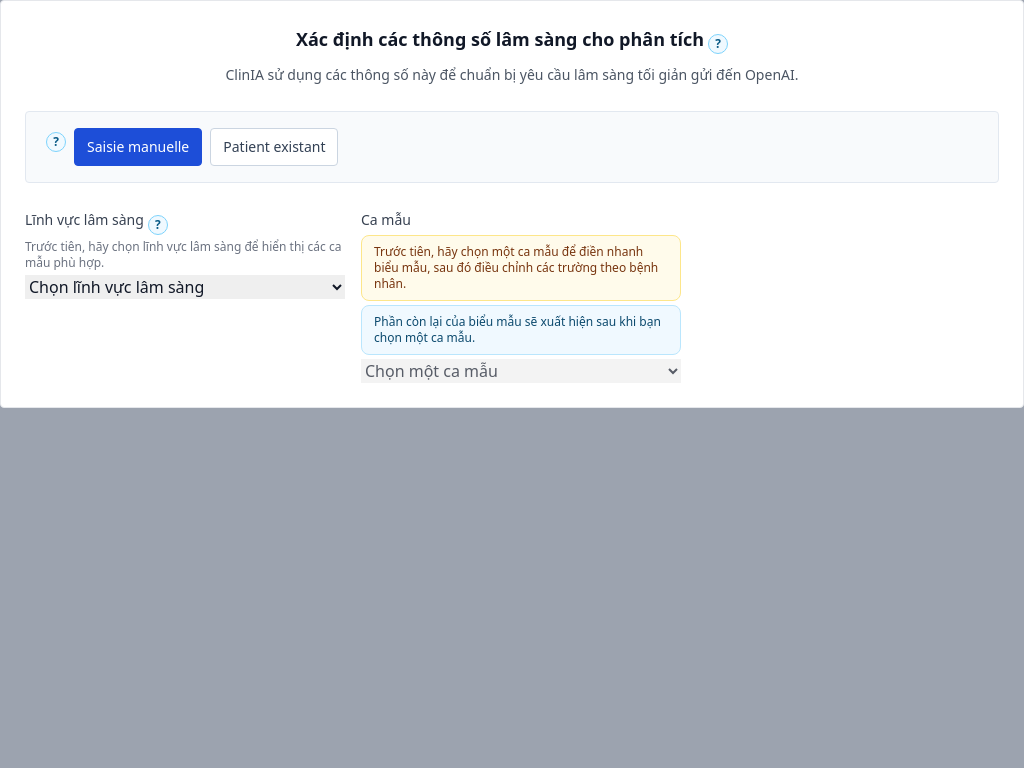
Test: ClinicalForm › keeps the hypertension example medical terms in English for vi
Select "Y học tổng quát" in the dropdown with id "clinical-field" at (185, 287), box left=25, top=275, right=345, bottom=299
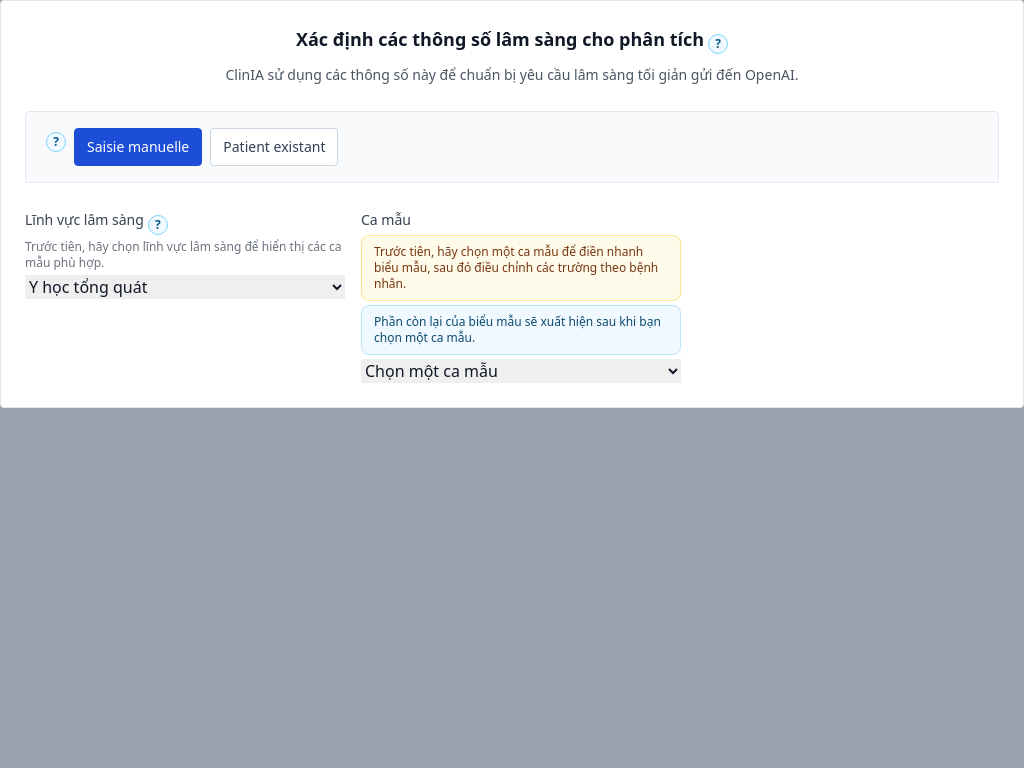
Select "Hypertension" in the dropdown with id "clinical-example-case" at (521, 371), box left=361, top=359, right=681, bottom=383
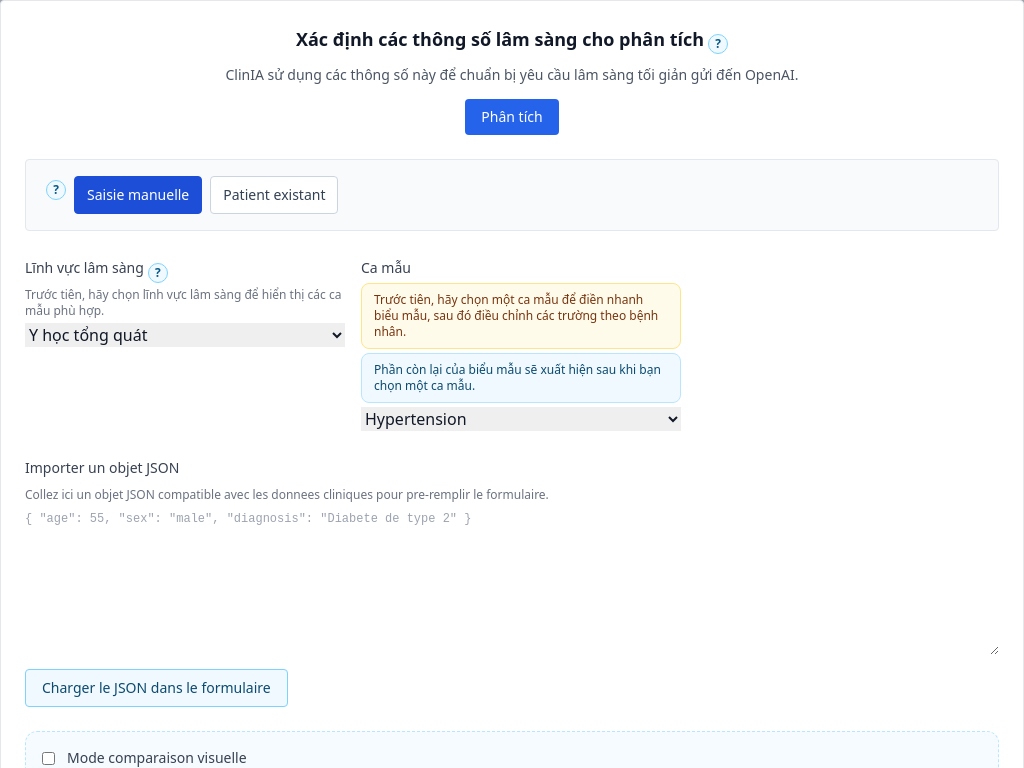
expect the button "Phân tích" is shown: met, box left=465, top=99, right=559, bottom=135
